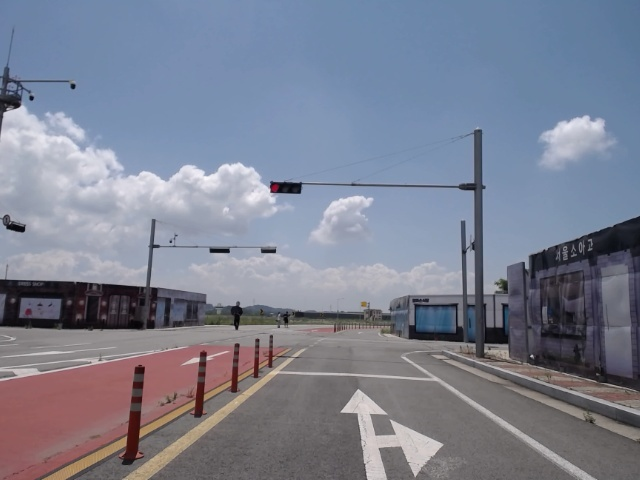red_3: (268, 181, 305, 194)
